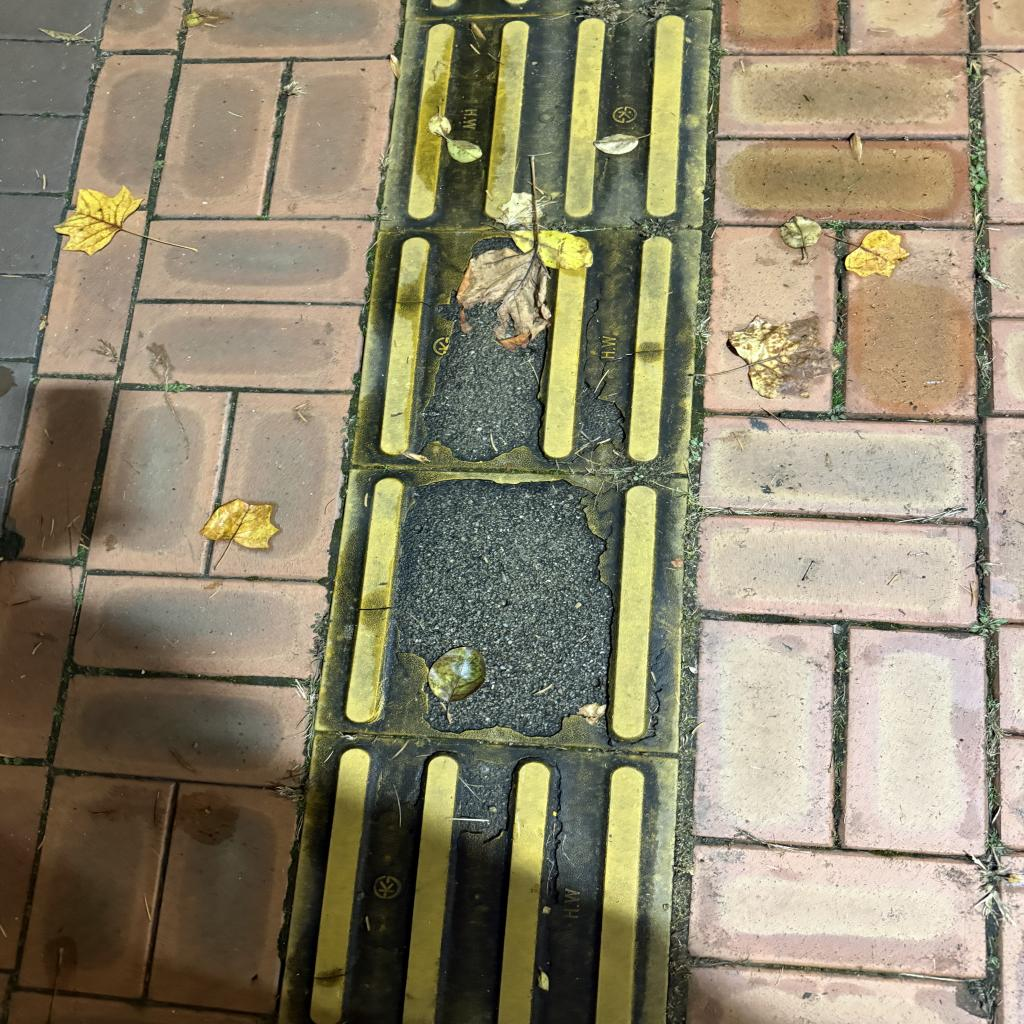Straight block broken: (317, 468, 684, 747), (358, 230, 696, 470)
